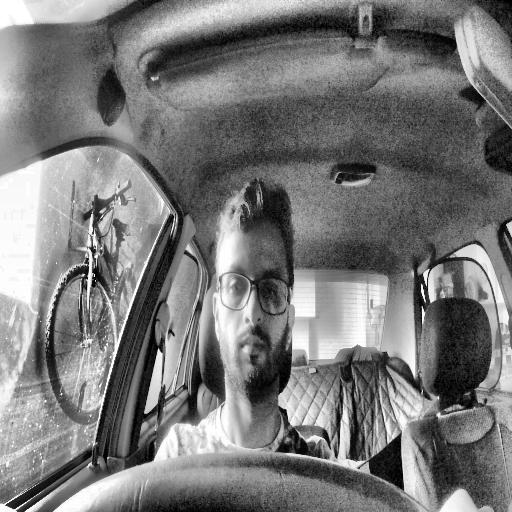awake: (211, 176, 297, 398)
